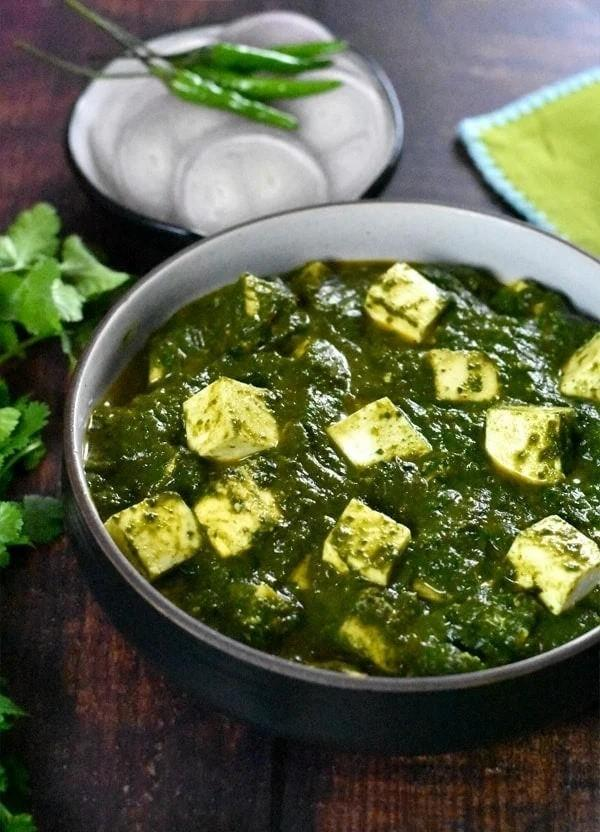PalakPaneer: (87, 252, 600, 676)
